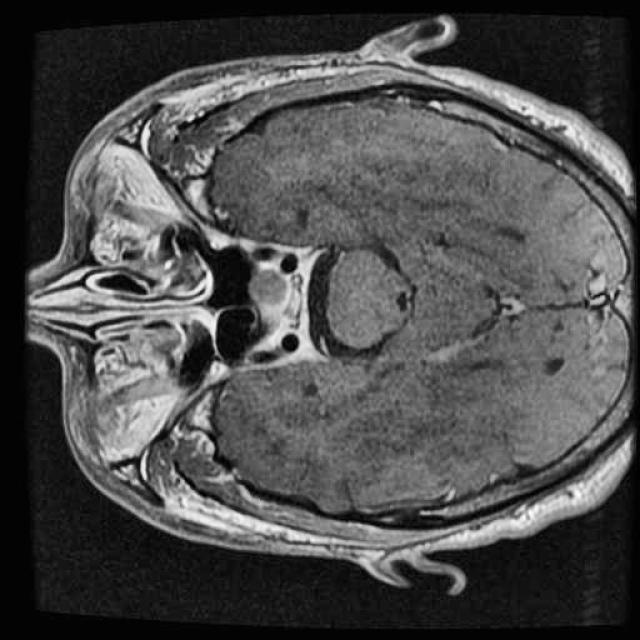Tumor: (236, 255, 300, 321)
